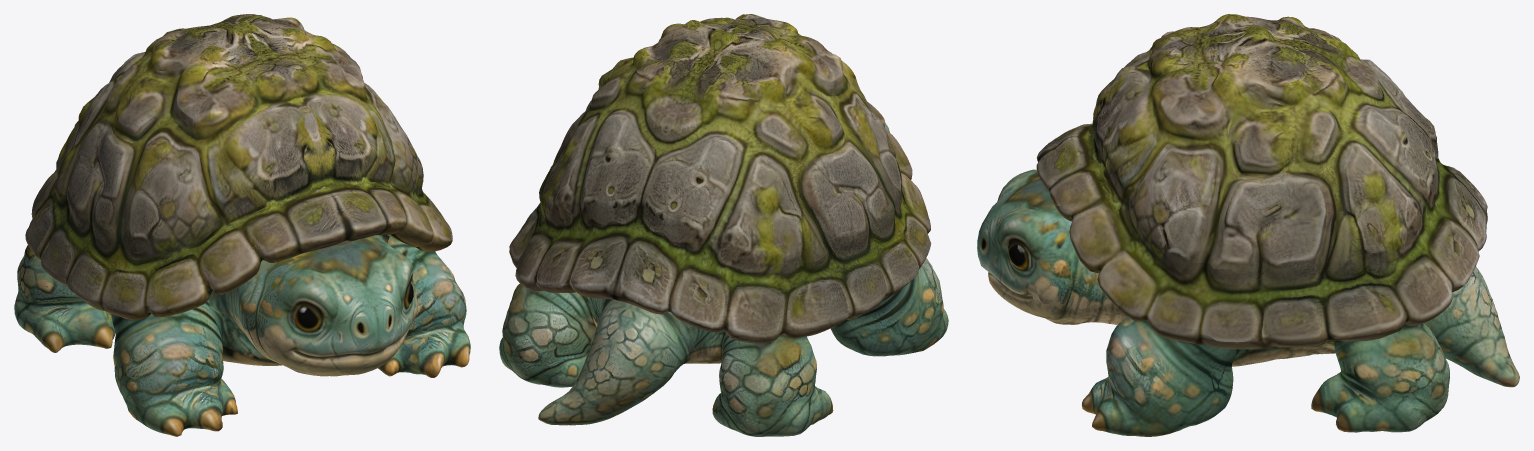
The picture shows the model from 3 angles, left to right: view 1: azimuth 30°, elevation 25°; view 2: azimuth 150°, elevation 25°; view 3: azimuth 270°, elevation 25°; orthographic projection. The views are drawn at different scales.
Visible parts, largest first — view 1: mesh_node; view 2: mesh_node; view 3: mesh_node.
Boxes of the visible parts, left/top/right/bottom form: mesh_node: left=14, top=14, right=470, bottom=436; mesh_node: left=499, top=14, right=948, bottom=436; mesh_node: left=977, top=14, right=1519, bottom=436.
Size of the model in its own units: 1.57 by 1.34 by 2.
1 material, 1 textured.
